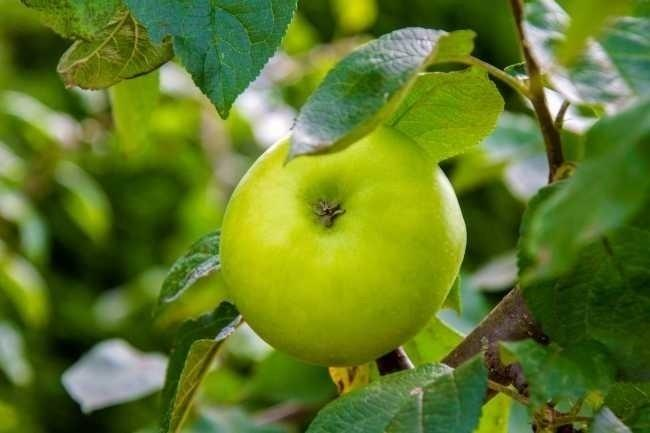apple: (217, 125, 470, 364)
